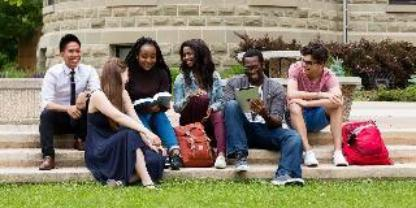bag: (339, 114, 393, 170), (173, 122, 217, 175)
person: (220, 48, 306, 192), (87, 57, 167, 191), (38, 32, 102, 179), (286, 41, 351, 172), (174, 36, 231, 175)
